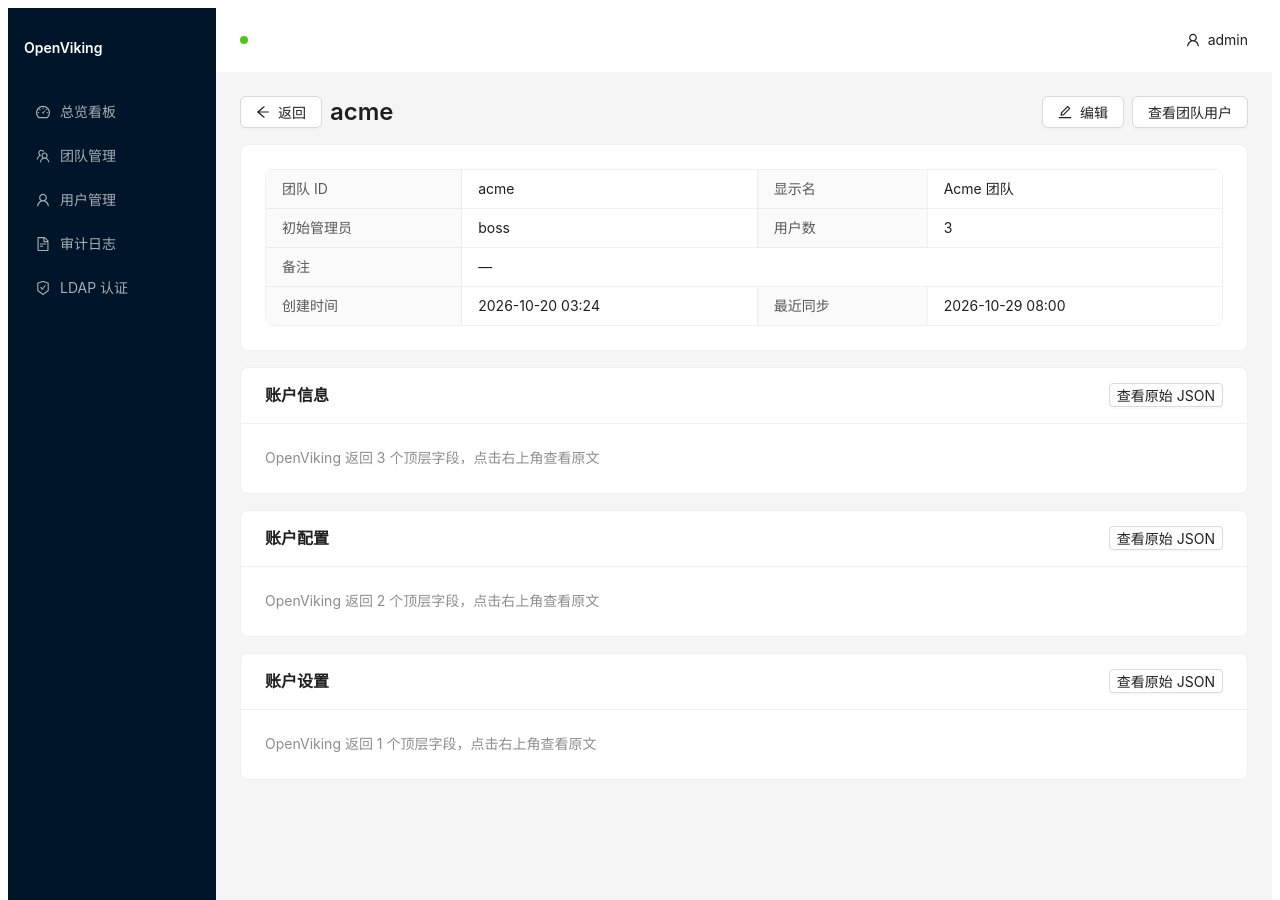
Scenario: TenantDetailPage › 编辑显示名与备注提交 PATCH，成功后页面刷新
Expected: the text "Acme 团队" is shown, x1=944 y1=180 x2=1014 y2=197
Click the button "编辑". click: x=1083, y=112
box: x1=1042 y1=96 x2=1124 y2=128
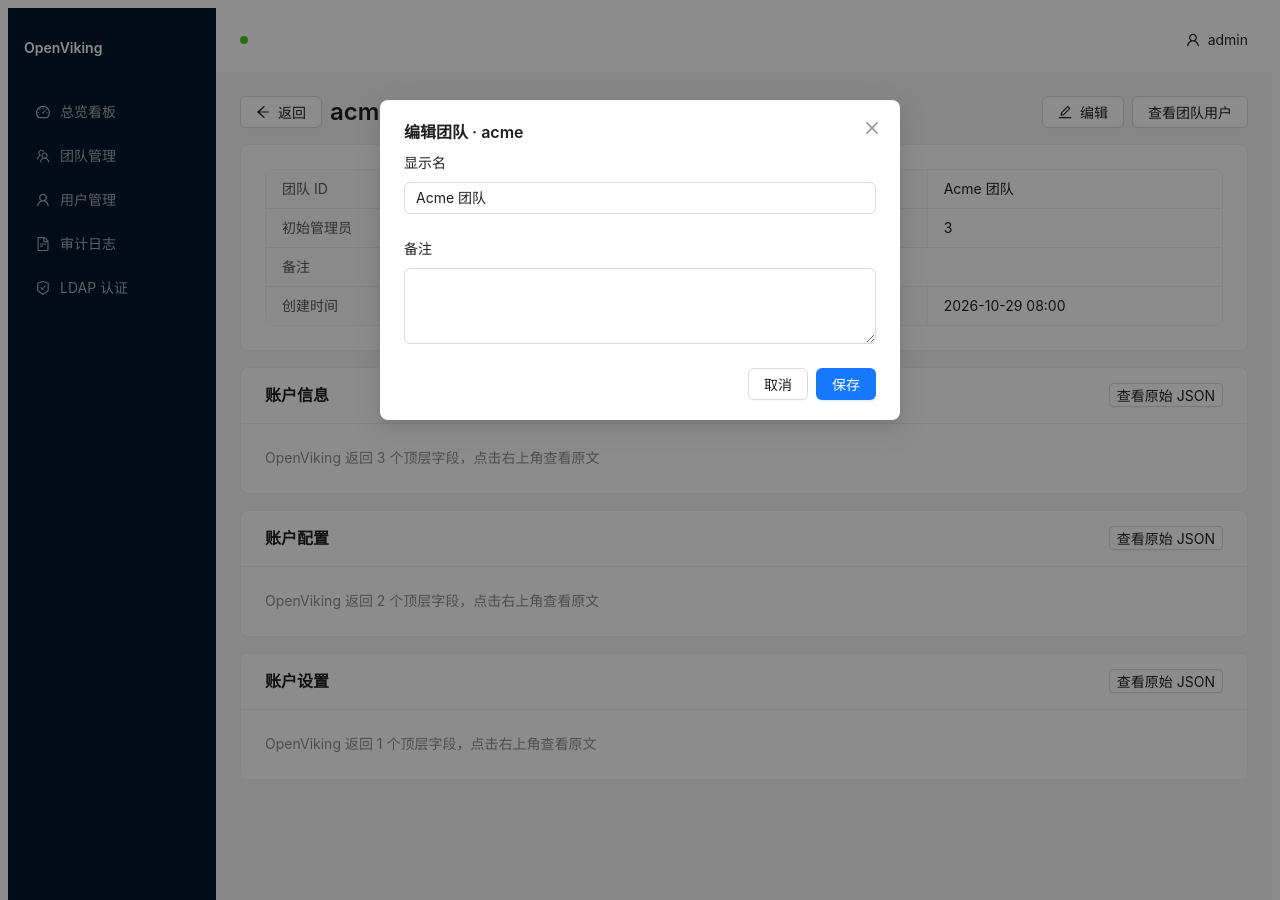
Replace the text in the field labelled "显示名" with "Acme 中国". click: x=640, y=198
box: x1=404 y1=182 x2=876 y2=214
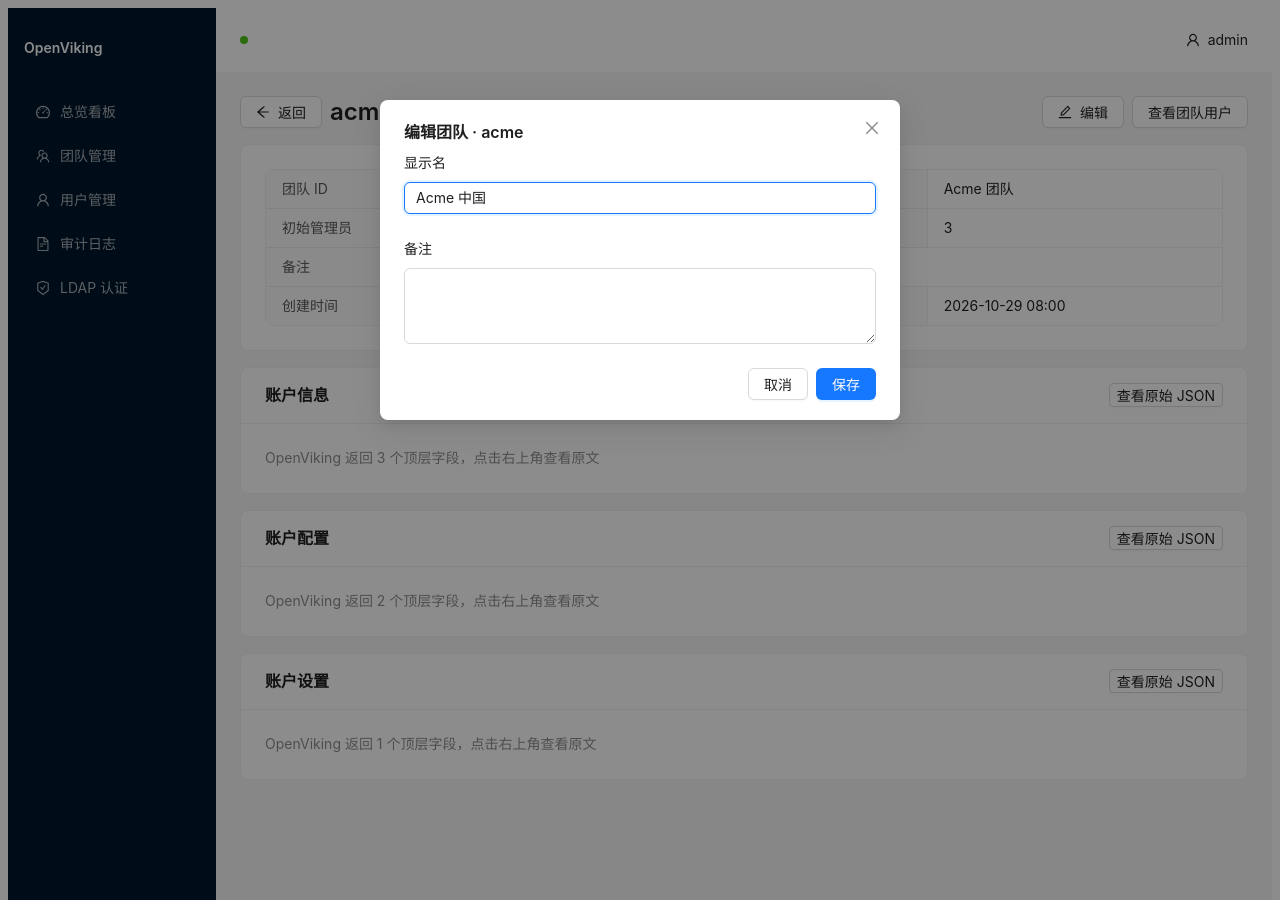
Click the button "保存". click: x=846, y=384
box: x1=816 y1=368 x2=876 y2=400
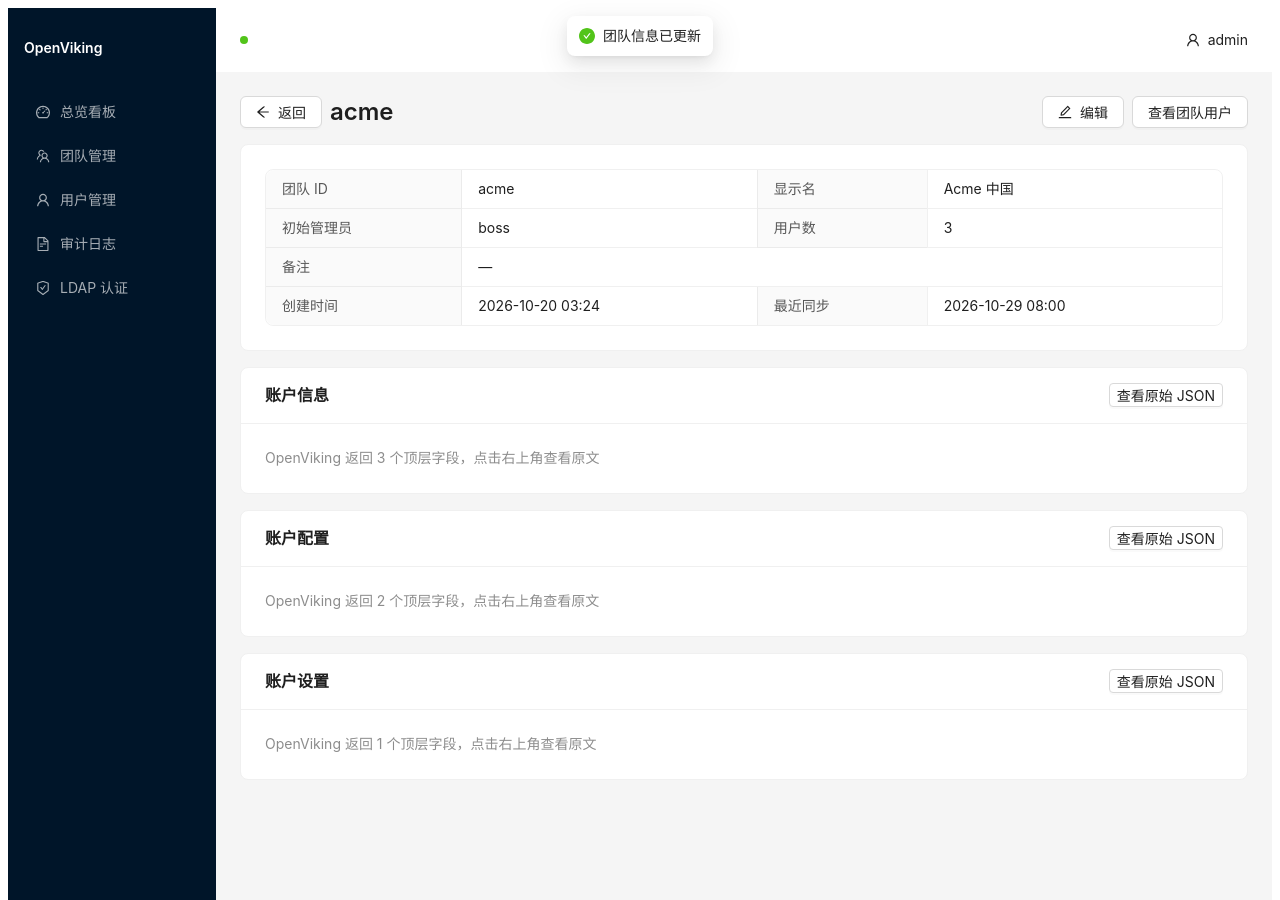
Result: the text "Acme 中国" is shown at x1=944 y1=180 x2=1014 y2=197
